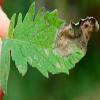Tomato leaf late blight: (2, 2, 99, 81)
